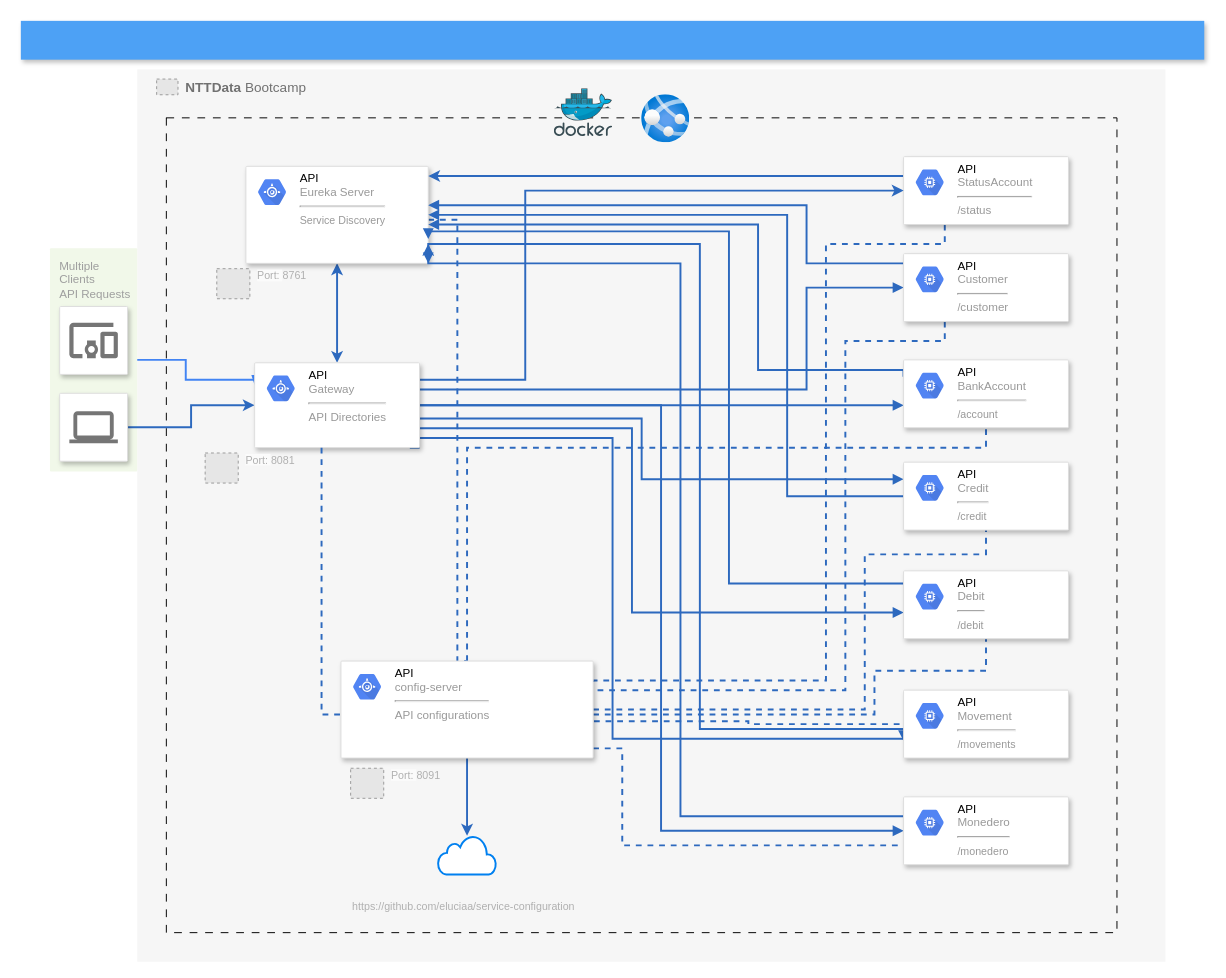
Image size: 1226x978. Some labels were removed from this diagram. Grey dashed boxes stand in for pictures. The centre of each missing label's shape, as x and y in pixels:
BOOTCAMP MICROSERVICIOS 2023: the point at 613,41
Github: the point at 466,854
